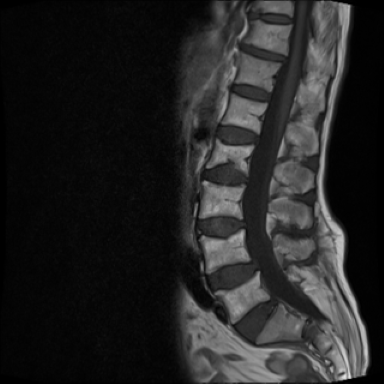Degenerative Disc Disease (DDD): (231, 40, 290, 67), (239, 9, 295, 29)
Lumbar Disc Bulge (LDB): (231, 293, 285, 349), (199, 253, 262, 299), (197, 158, 253, 194), (208, 122, 261, 151), (190, 216, 249, 242)
Normal IVD: (220, 81, 273, 107)
Spinal Stenosis (SS): (247, 246, 266, 286), (240, 173, 254, 190), (278, 53, 293, 68), (241, 217, 255, 233)
Spondylolisthesis: (188, 256, 277, 309)
